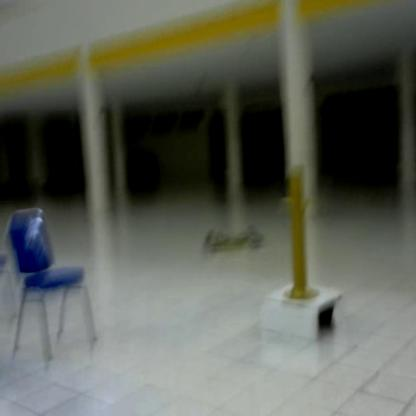pole: (275, 162, 322, 306)
